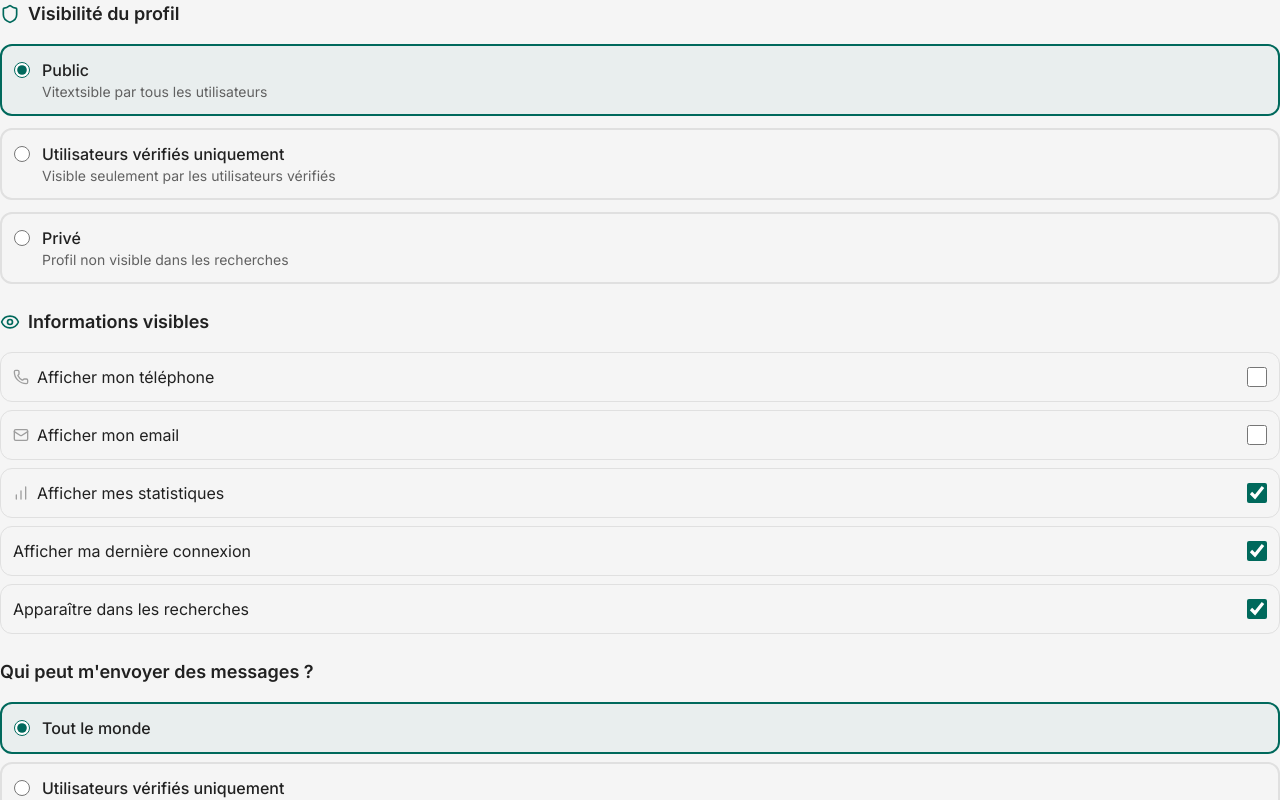
Test: PrivacySettingsForm - logique metier › affiche un avertissement quand on choisit la visibilite privee
Click the radio button labelled "Privé Profil non visible dans les recherches" at (22, 238), box [14,230,30,246]
(page scrolled)
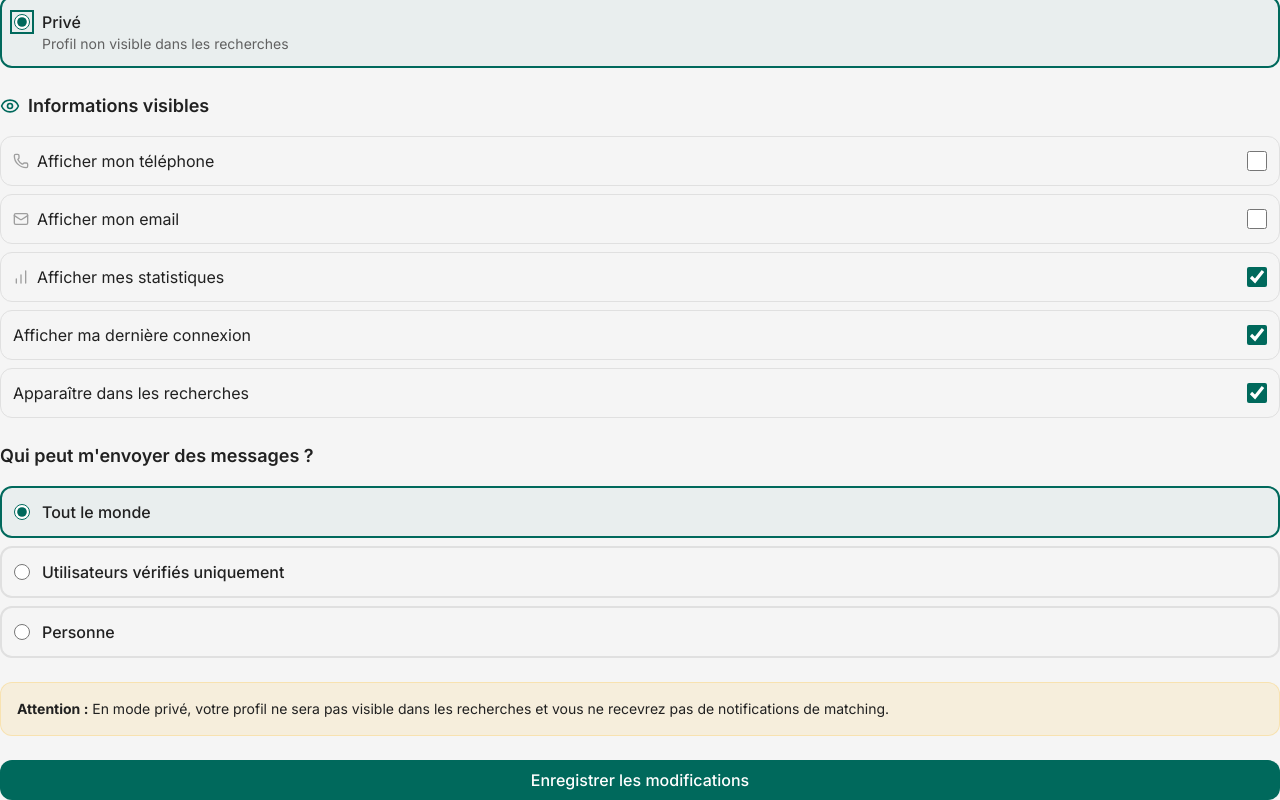
Now the text "vous ne recevrez pas de notifications de matching" is shown, box [88,700,889,717]
